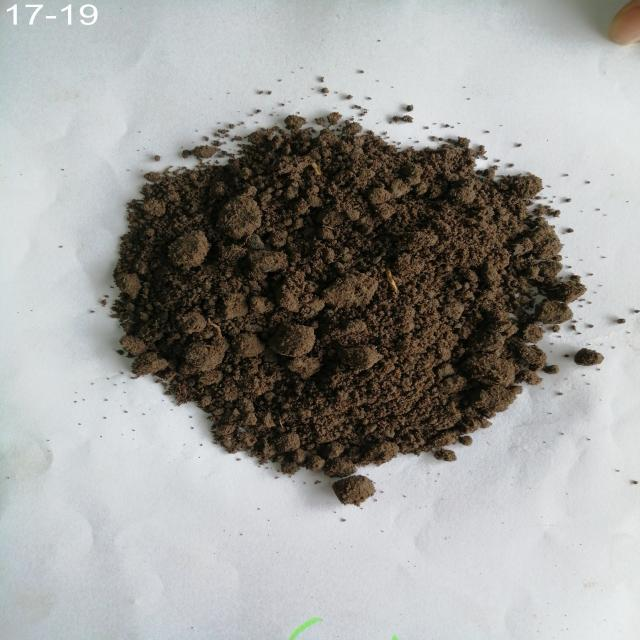soil: (174, 182, 482, 407)
